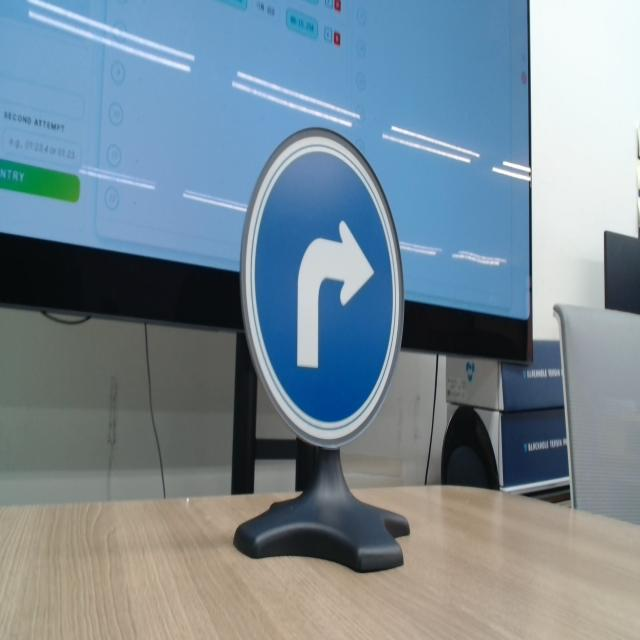right_dierection: (223, 76, 438, 490)
